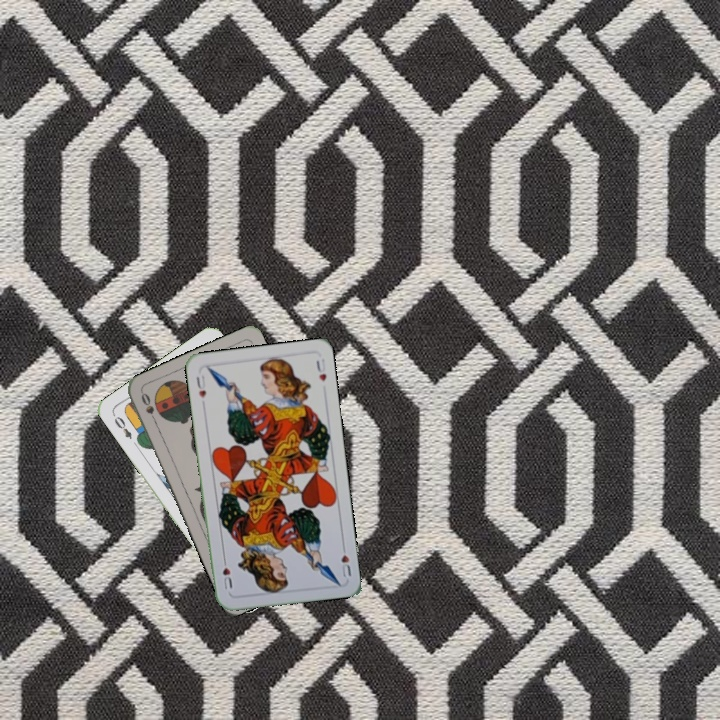EO: (109, 410, 135, 442)
HU: (337, 540, 354, 581), (192, 371, 208, 401)
SO: (137, 389, 160, 427)
